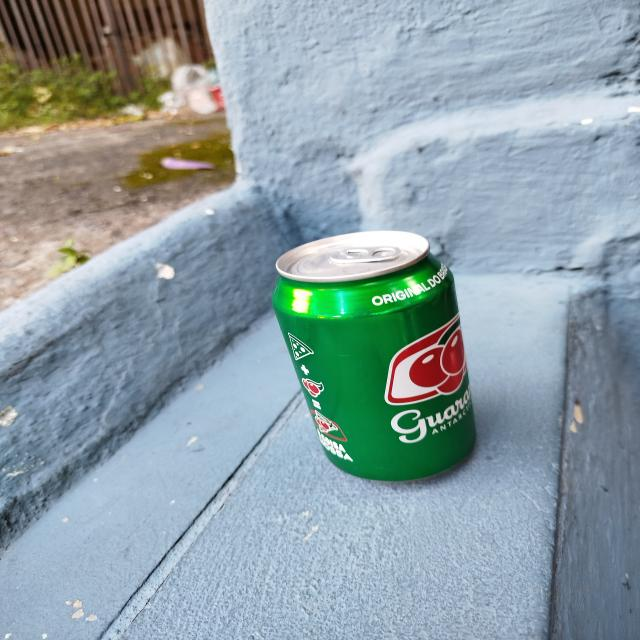Guarana: (272, 232, 474, 479)
